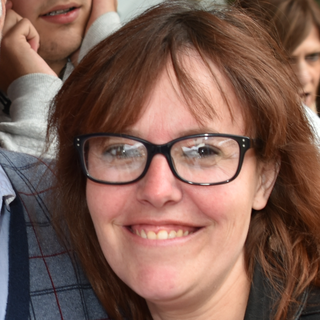eye: (177, 142, 224, 164), (102, 142, 140, 162)
